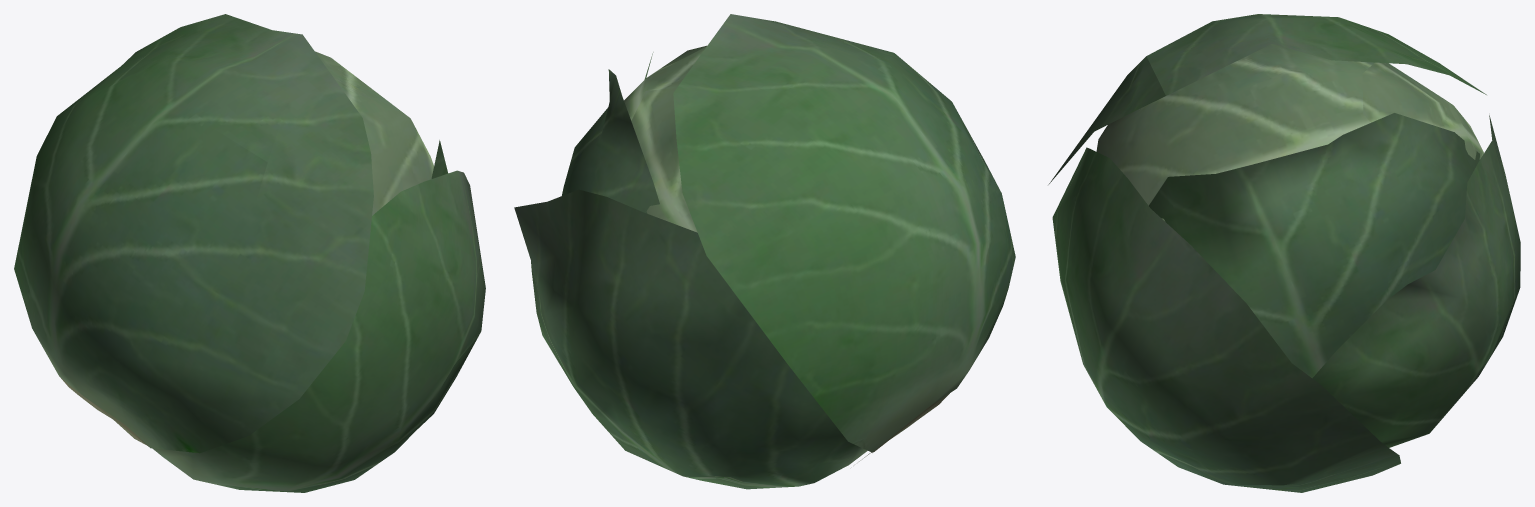
The model's file is Cabage_01.glb.
3 renders of one model, left to right at view 1: azimuth 30°, elevation 25°; view 2: azimuth 150°, elevation 25°; view 3: azimuth 270°, elevation 25°, orthographic. The views are drawn at different scales.
Visible parts, largest first — view 1: SM_Cabage_01; view 2: SM_Cabage_01; view 3: SM_Cabage_01.
Boxes of the visible parts, x1,y1,x2,y2 form: SM_Cabage_01: [14, 14, 485, 492]; SM_Cabage_01: [514, 14, 1015, 489]; SM_Cabage_01: [1048, 14, 1520, 492].
Size of the model in its own units: 0.3318 by 0.3352 by 0.3258.
1 material, 1 textured.
